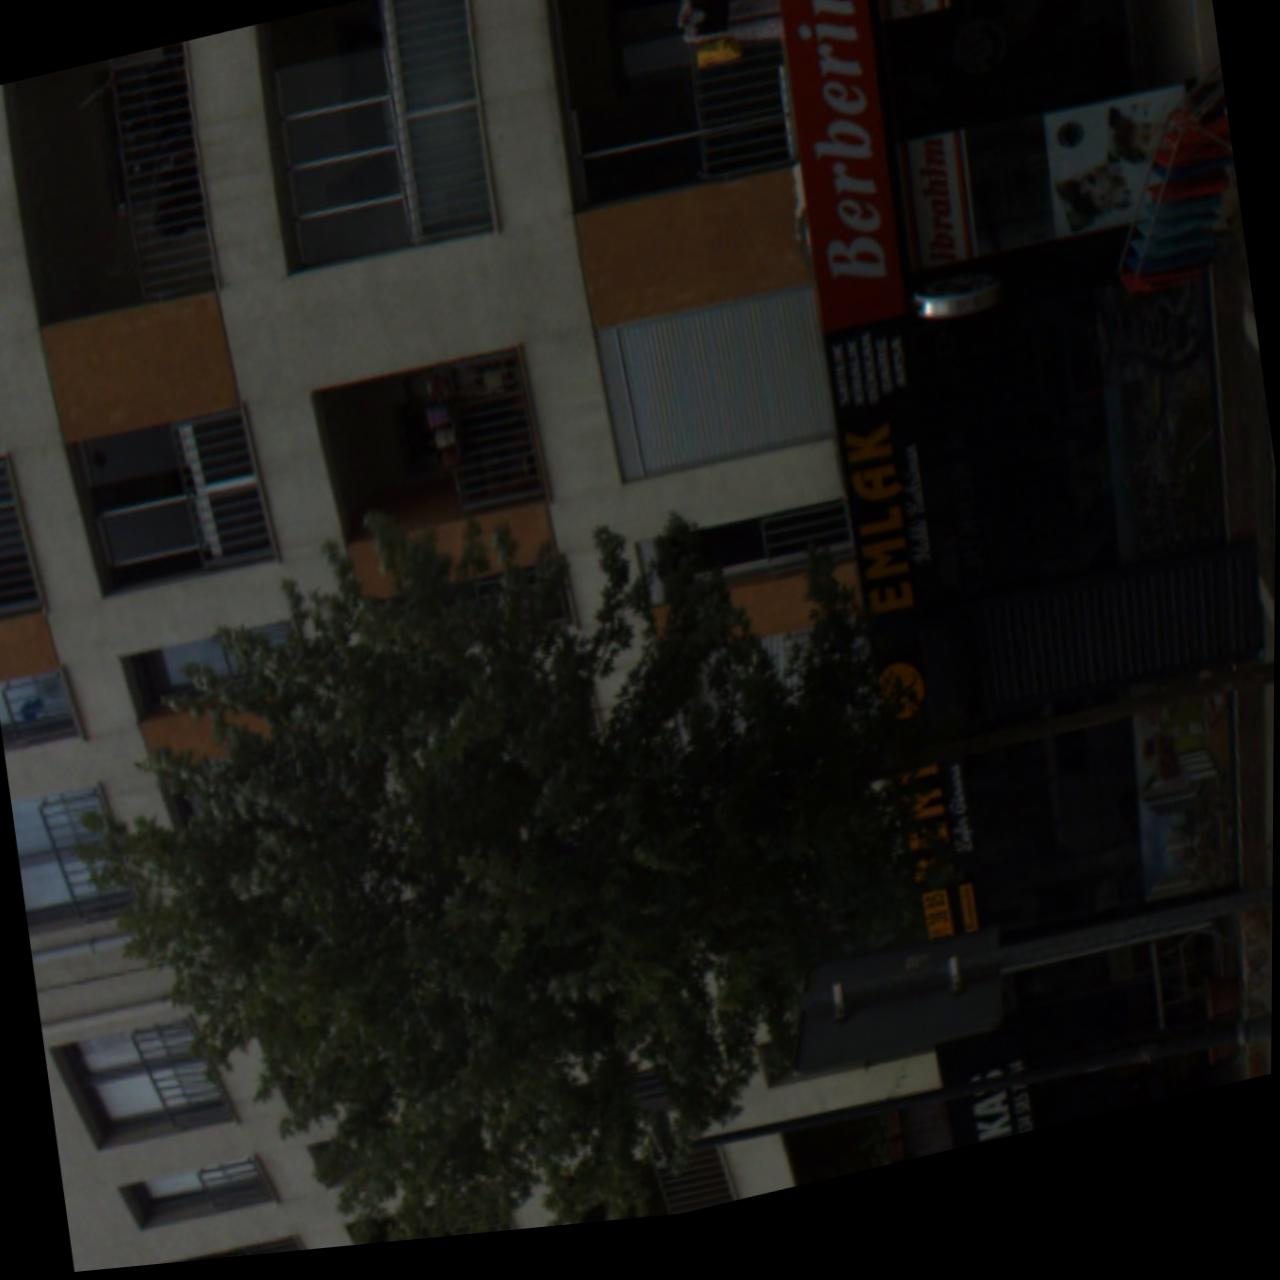SignStore: (822, 329, 996, 965), (777, 0, 906, 342), (934, 1028, 1044, 1162)
